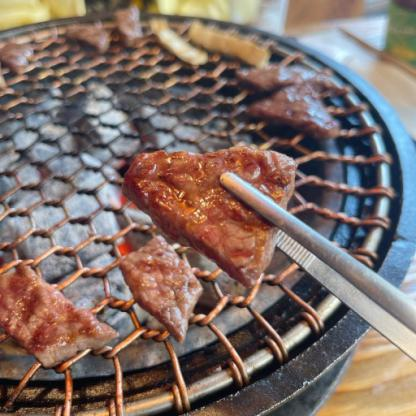Carne: (126, 149, 272, 282), (0, 257, 107, 372), (118, 235, 200, 333)
